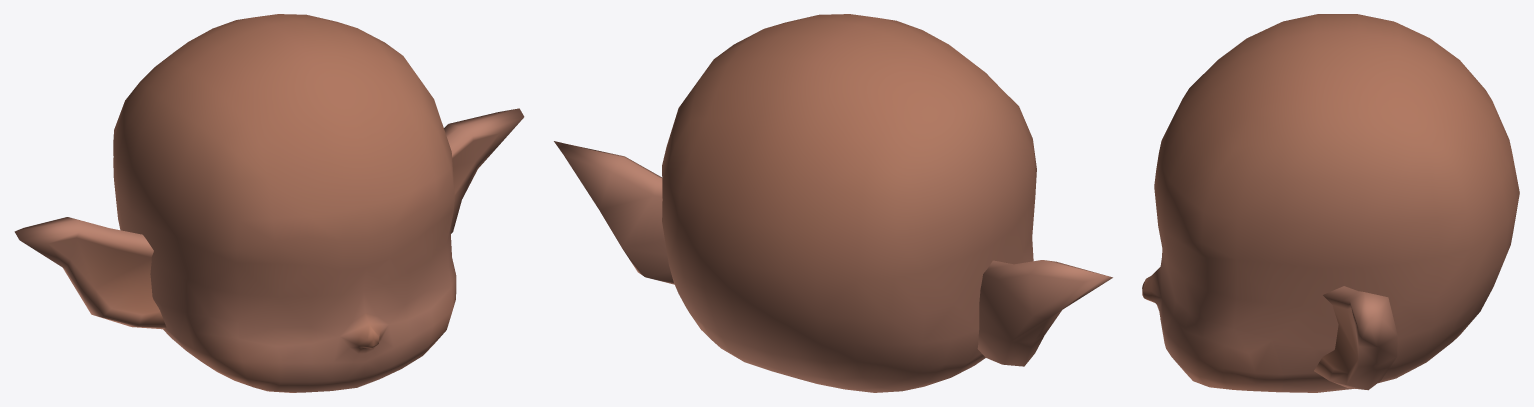
Rendered from Body_Brown_Head_2.fbx.
3 views of the same model, side by side, from view 1: azimuth 30°, elevation 25°; view 2: azimuth 150°, elevation 25°; view 3: azimuth 270°, elevation 25° (orthographic). The views are drawn at different scales.
Parts seen in each view (by area): view 1: Body_Brown_Head_2; view 2: Body_Brown_Head_2; view 3: Body_Brown_Head_2.
Part boxes in pixels (<box>): Body_Brown_Head_2: <box>14,14,524,392</box>; Body_Brown_Head_2: <box>554,14,1112,392</box>; Body_Brown_Head_2: <box>1142,14,1519,392</box>.
Size of the model in its own units: 88.45 by 52.19 by 53.9.
